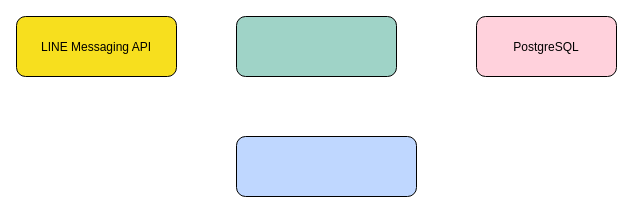
This 633x213 diagram has some shape labels left out. The shapes that lost their labels are listed below. From the top down, each one's box as (x1, y1, x2, y2) in pixels, then its label:
(236, 16, 396, 76): Webhook (Flask)
(236, 136, 416, 196): Admin Web UI
